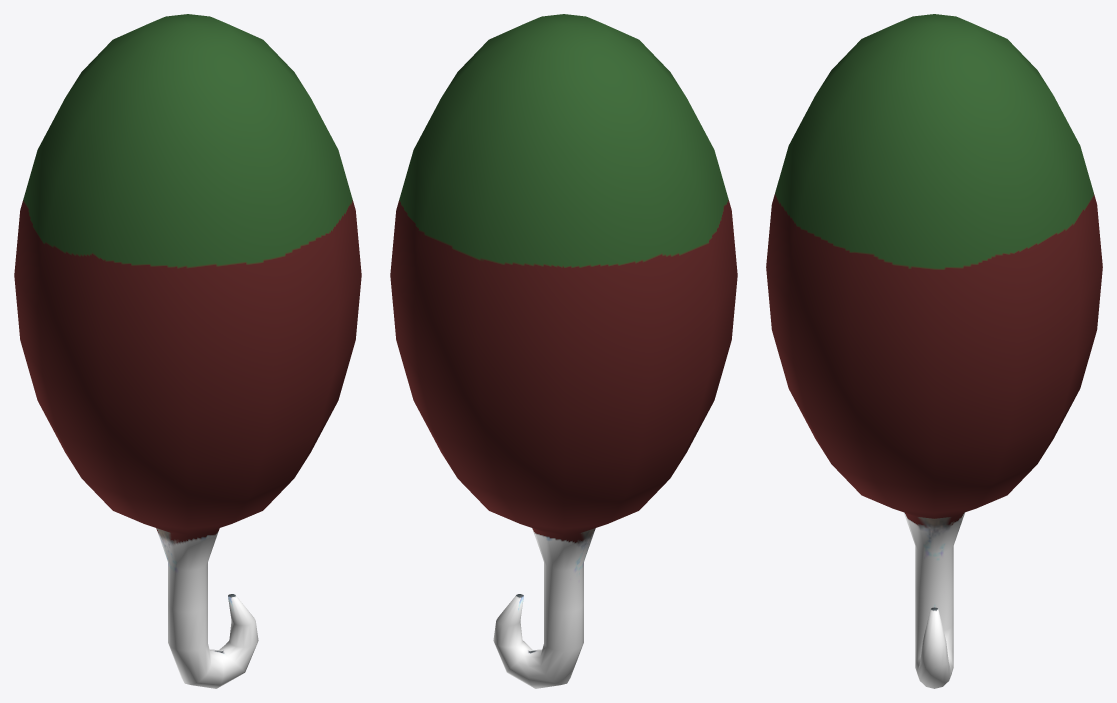
File: bobber.fbx
3 renders of one model, left to right at view 1: azimuth 30°, elevation 25°; view 2: azimuth 150°, elevation 25°; view 3: azimuth 270°, elevation 25°, orthographic. The views are drawn at different scales.
Visible parts, largest first — view 1: Bobber; view 2: Bobber; view 3: Bobber.
Boxes of the visible parts, x1,y1,x2,y2 form: Bobber: (14, 14, 361, 688); Bobber: (390, 14, 737, 688); Bobber: (766, 14, 1102, 688).
Size of the model in its own units: 8.43 by 17.92 by 8.43.
